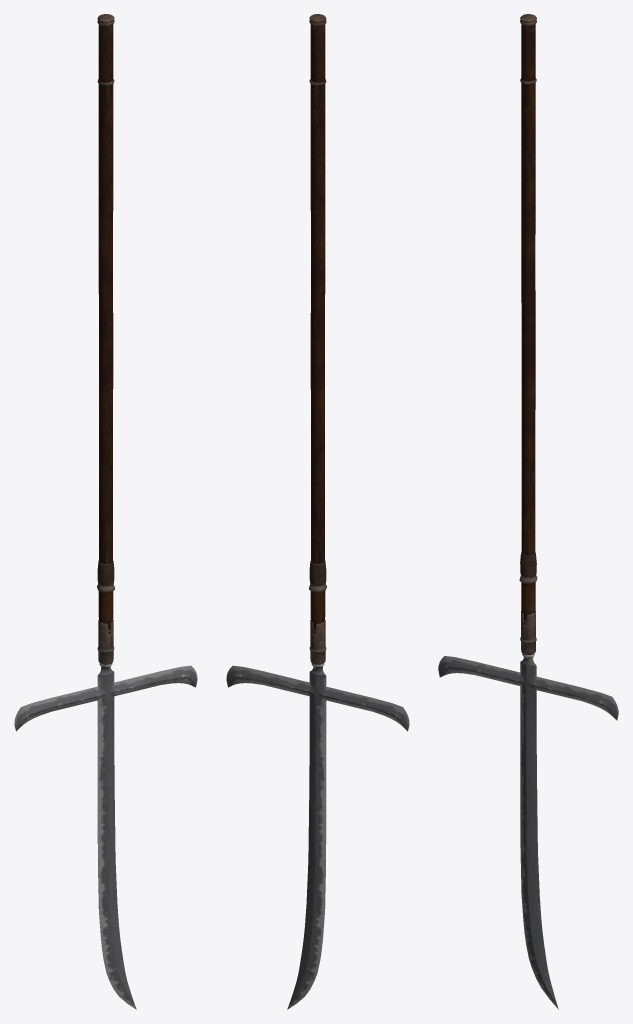
Rendered from weapon-wp_a_0932.glb.
The picture shows the model from 3 angles, left to right: view 1: azimuth 30°, elevation 25°; view 2: azimuth 150°, elevation 25°; view 3: azimuth 330°, elevation 25°; orthographic projection.
Parts seen in each view (by area): view 1: wp_a_0932_mesh; view 2: wp_a_0932_mesh; view 3: wp_a_0932_mesh.
Boxes of the visible parts, x1=… form: wp_a_0932_mesh: x1=14, y1=14, x2=197, y2=1009; wp_a_0932_mesh: x1=226, y1=14, x2=409, y2=1009; wp_a_0932_mesh: x1=438, y1=14, x2=618, y2=1009.
Size of the model in its own units: 0.4972 by 2.6 by 0.0437.
Materials: 1 (1 with a texture image).
